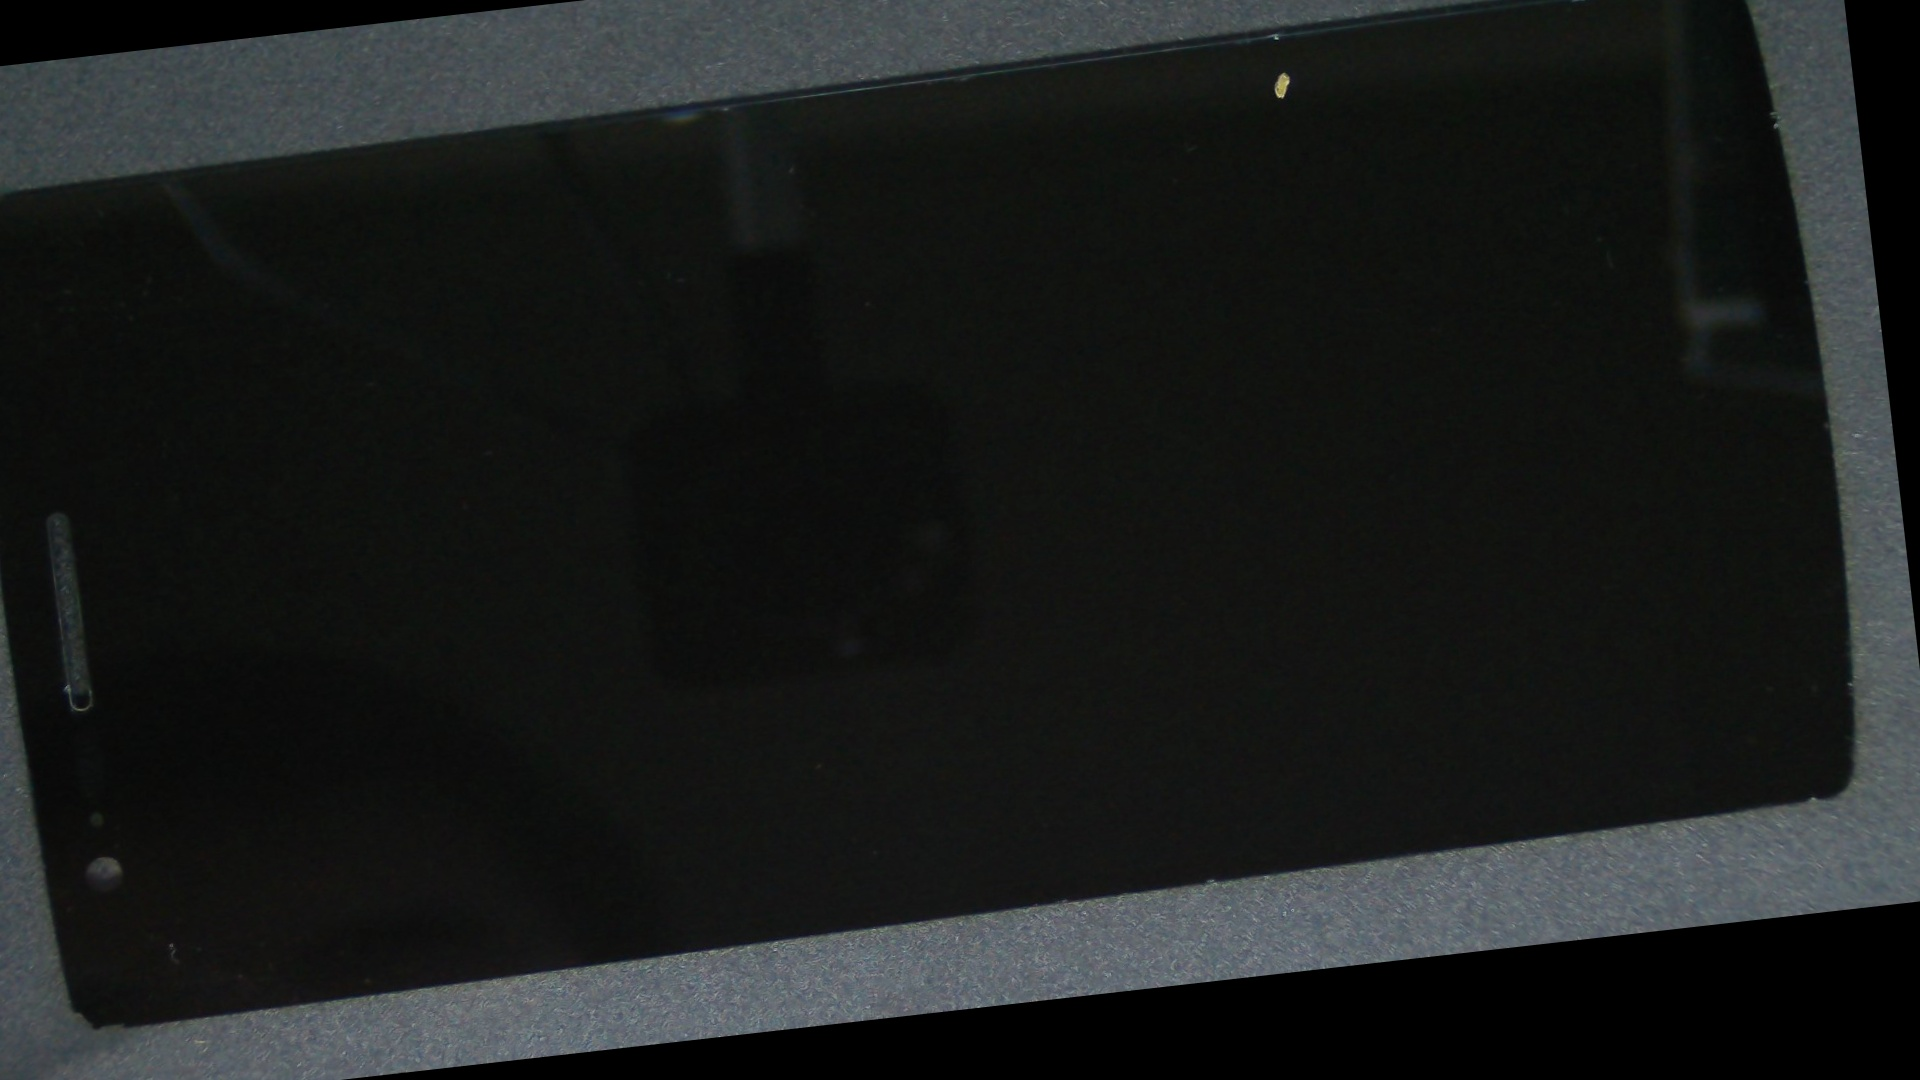oil: (550, 0, 1854, 231)
